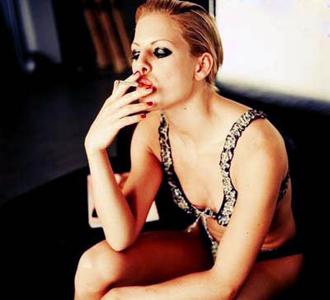person: (74, 2, 303, 300)
